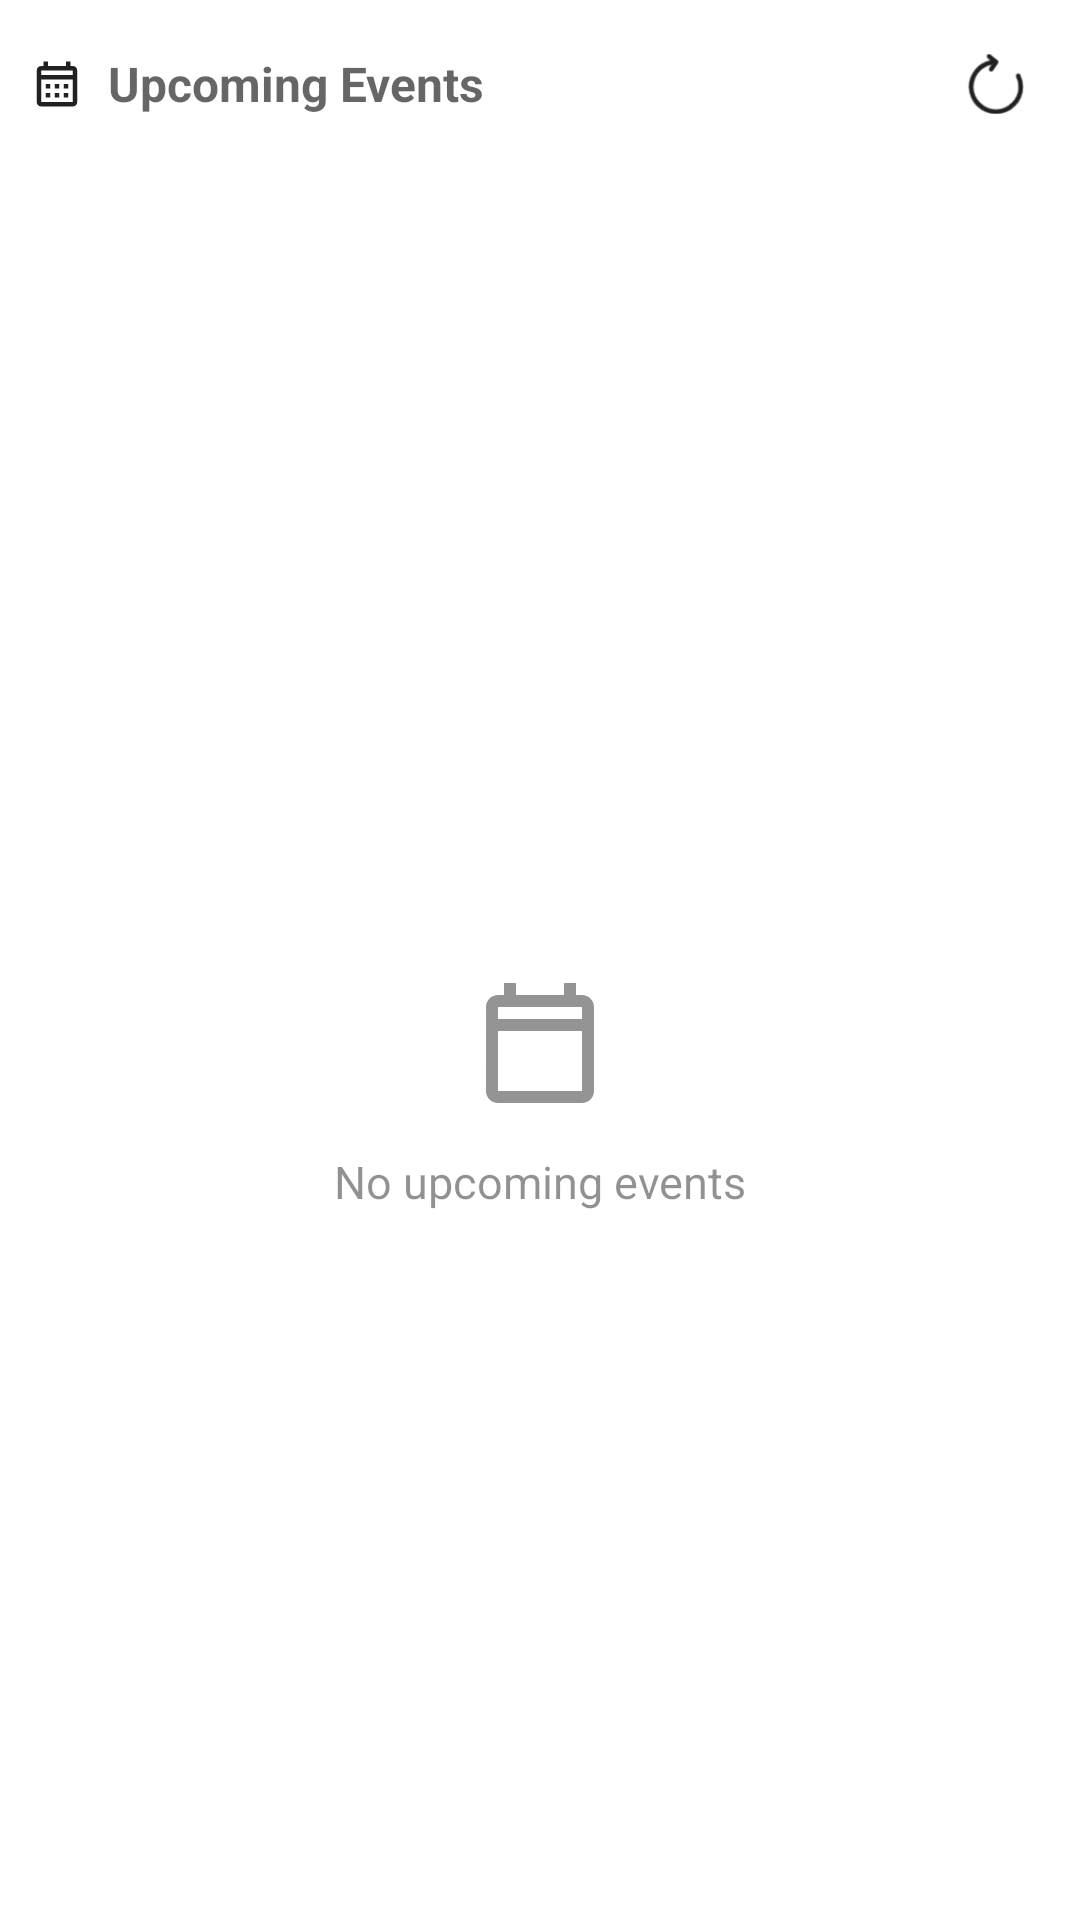

Icons on this 1080 × 1920 Android screen, each with its box as rect(x1, y1, x2, y2):
Calendar: rect(36, 61, 78, 107)
empty calendar: rect(486, 983, 594, 1103)
Refresh: rect(968, 54, 1024, 114)
